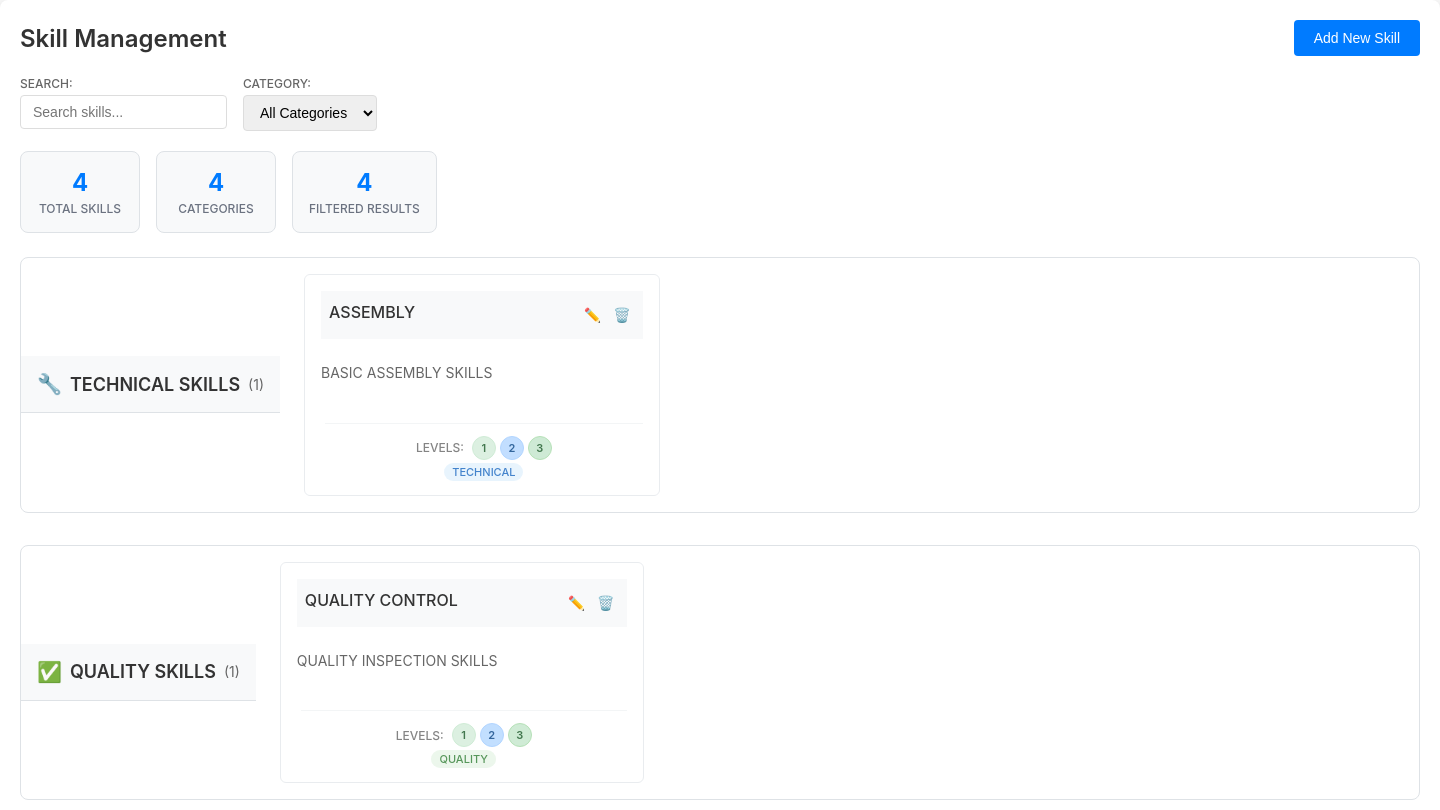
Test: SkillManagement › opens edit skill form
What coordinates should you click on to do the following:
click the 1st button titled "Edit skill"
I would click on:
 (593, 315)
Its box is [580,303,605,327].
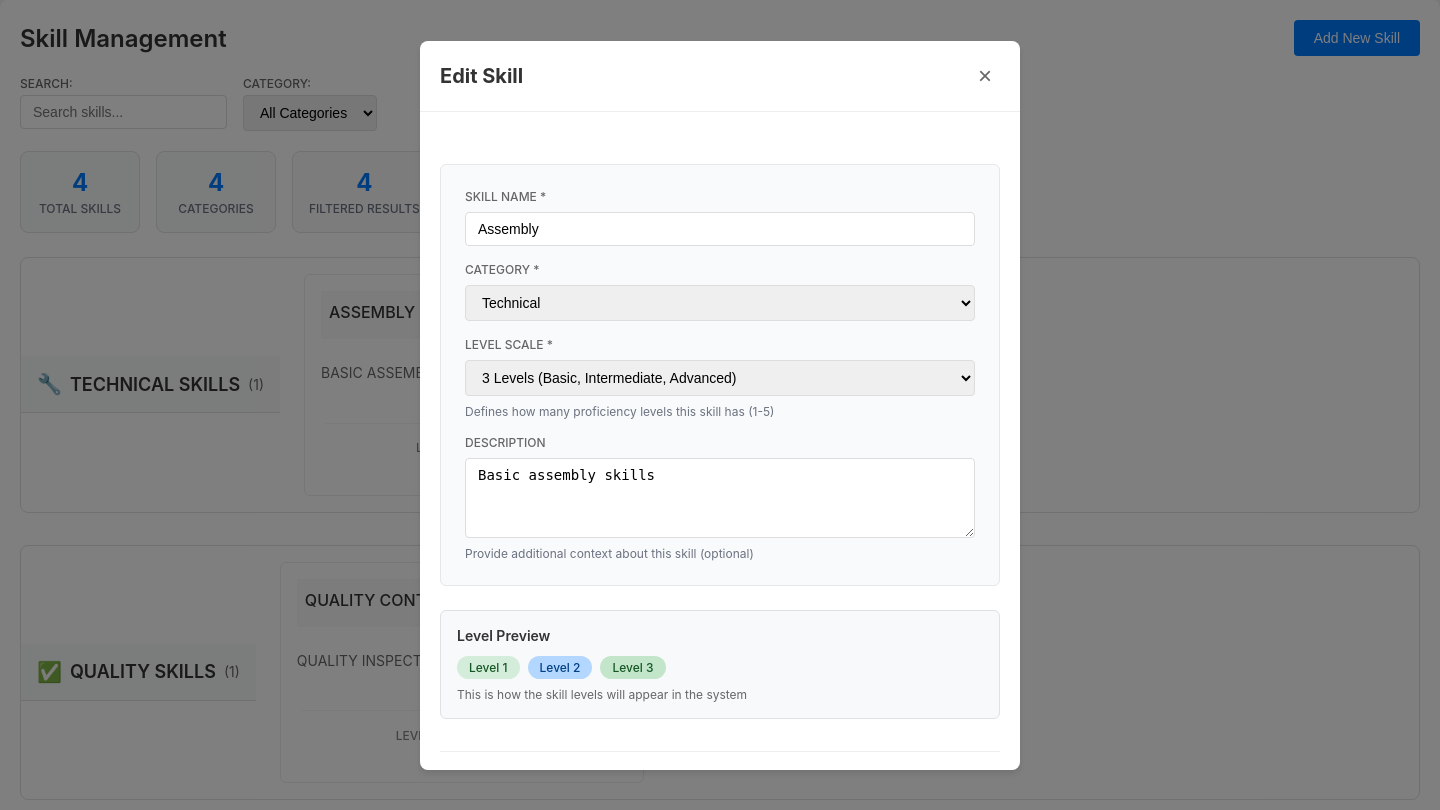
Expected: the heading "Edit Skill" is shown, [440,64,523,88]
Expected: the field showing "Assembly" is shown, [465,212,975,246]
